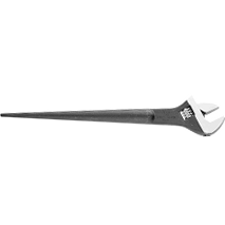wrench: (1, 90, 225, 144)
